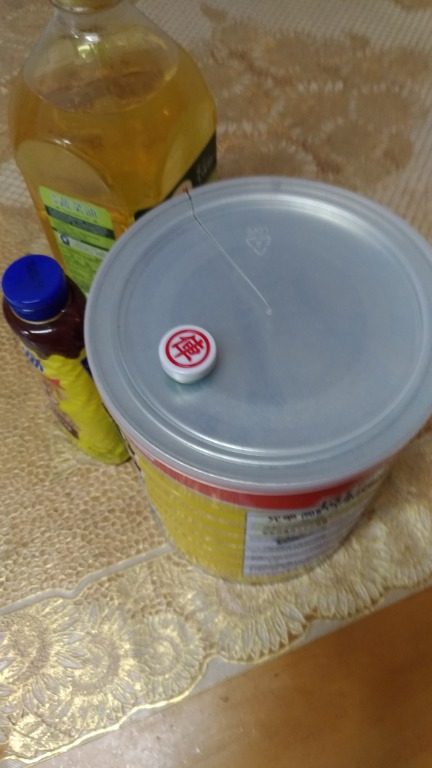r-rook: (140, 312, 233, 388)
